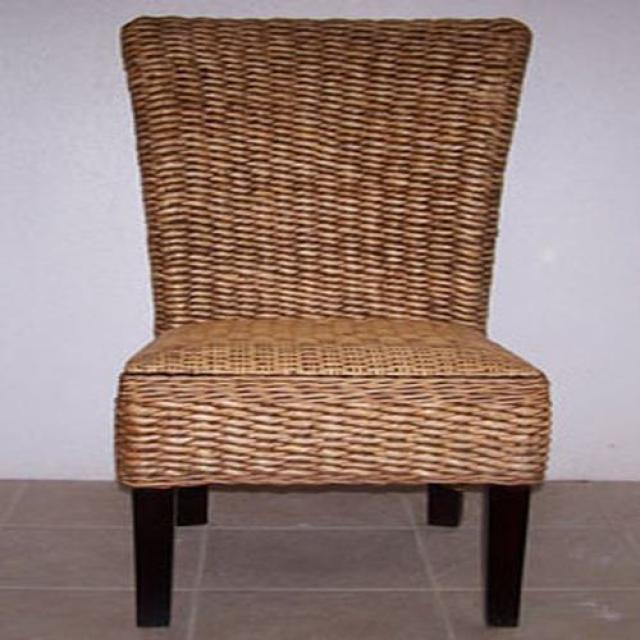chair: (111, 17, 553, 631)
